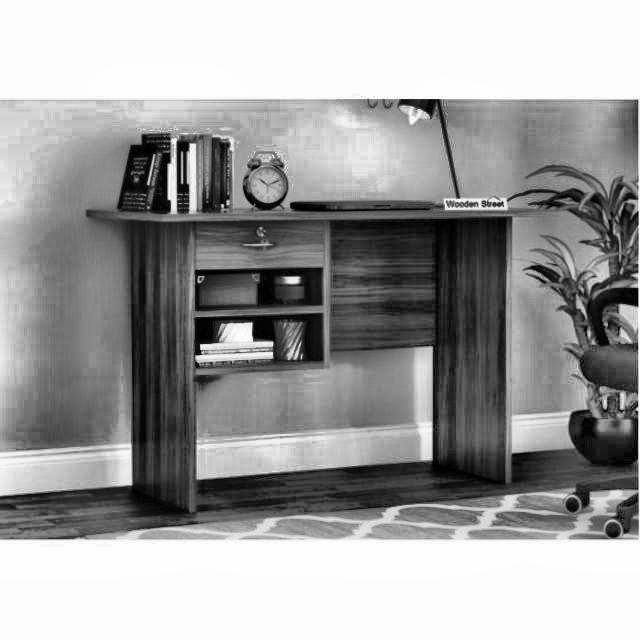mesa: (74, 192, 564, 510)
